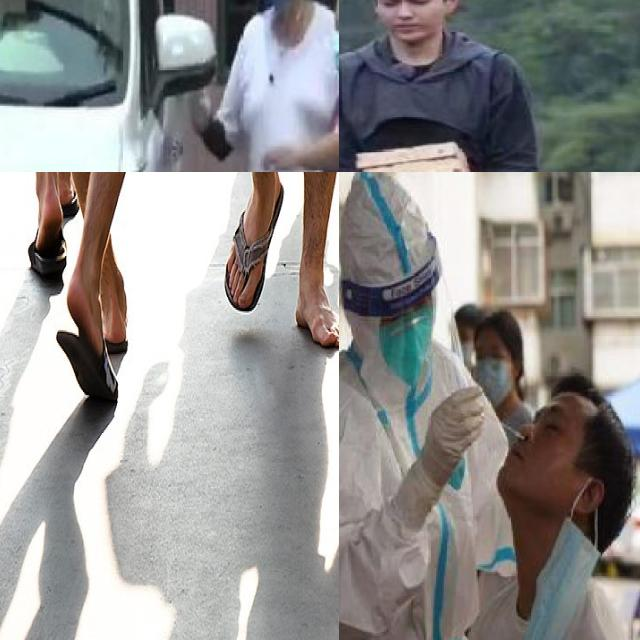No_Glasses: (376, 0, 440, 13)
Sandals: (296, 265, 339, 347)
face_mask: (374, 284, 434, 389), (468, 336, 518, 406), (323, 12, 339, 81)
face_nomask: (490, 395, 578, 503), (368, 0, 441, 50)
hand_glove: (424, 391, 485, 476), (187, 80, 211, 135)
hand_noglove: (259, 141, 299, 172)
head_nohelmet: (562, 361, 640, 472), (470, 301, 518, 346)
person: (339, 172, 503, 640), (482, 362, 640, 640), (339, 0, 539, 172)
